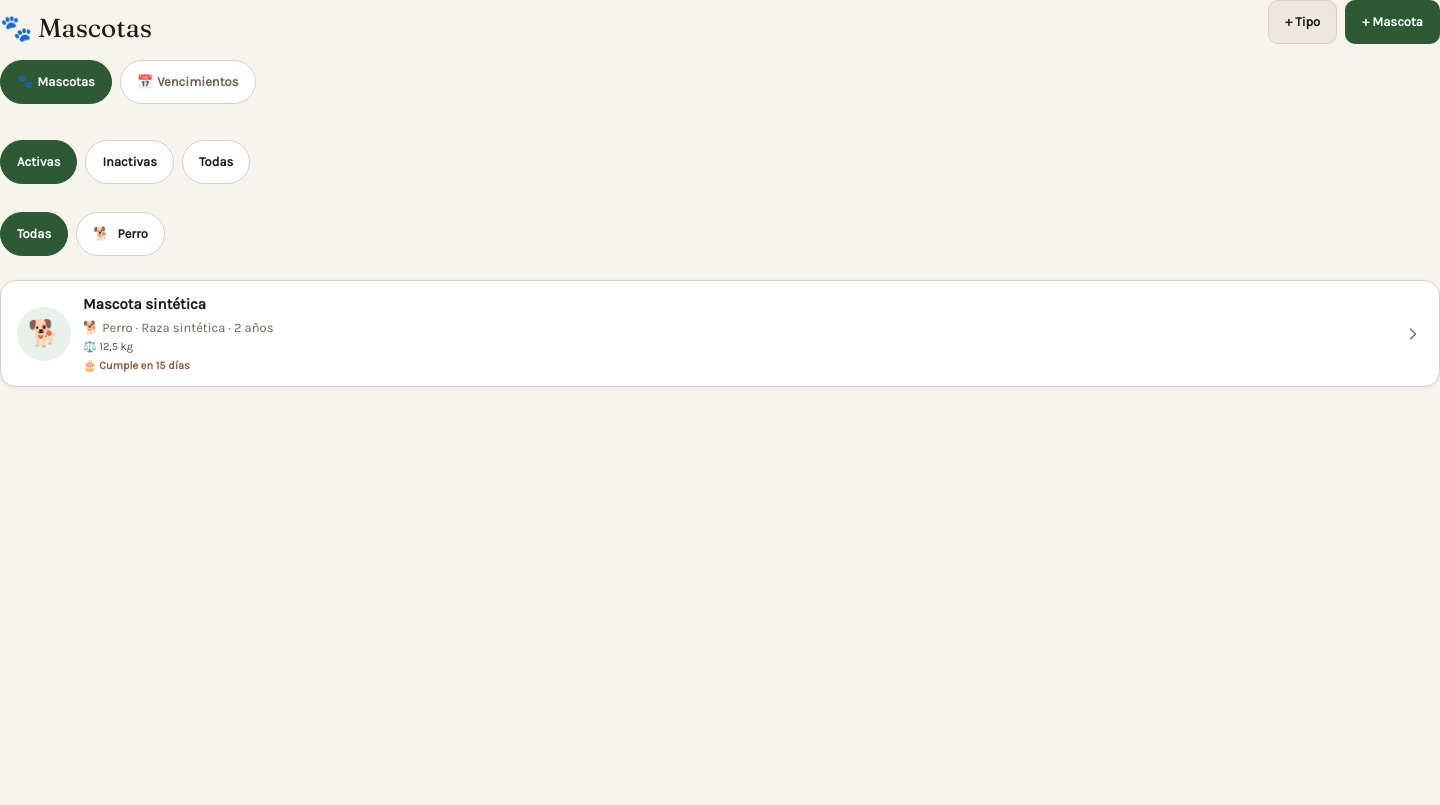
Test: 🐾 Mascotas — listado › ADMIN: "+ Mascota" crea la ficha y abre su detalle; la foto avisa si falta el almacenamiento
The image size is (1440, 805).
Click the button "+ Mascota": click(1393, 22) [1345,0,1439,44]
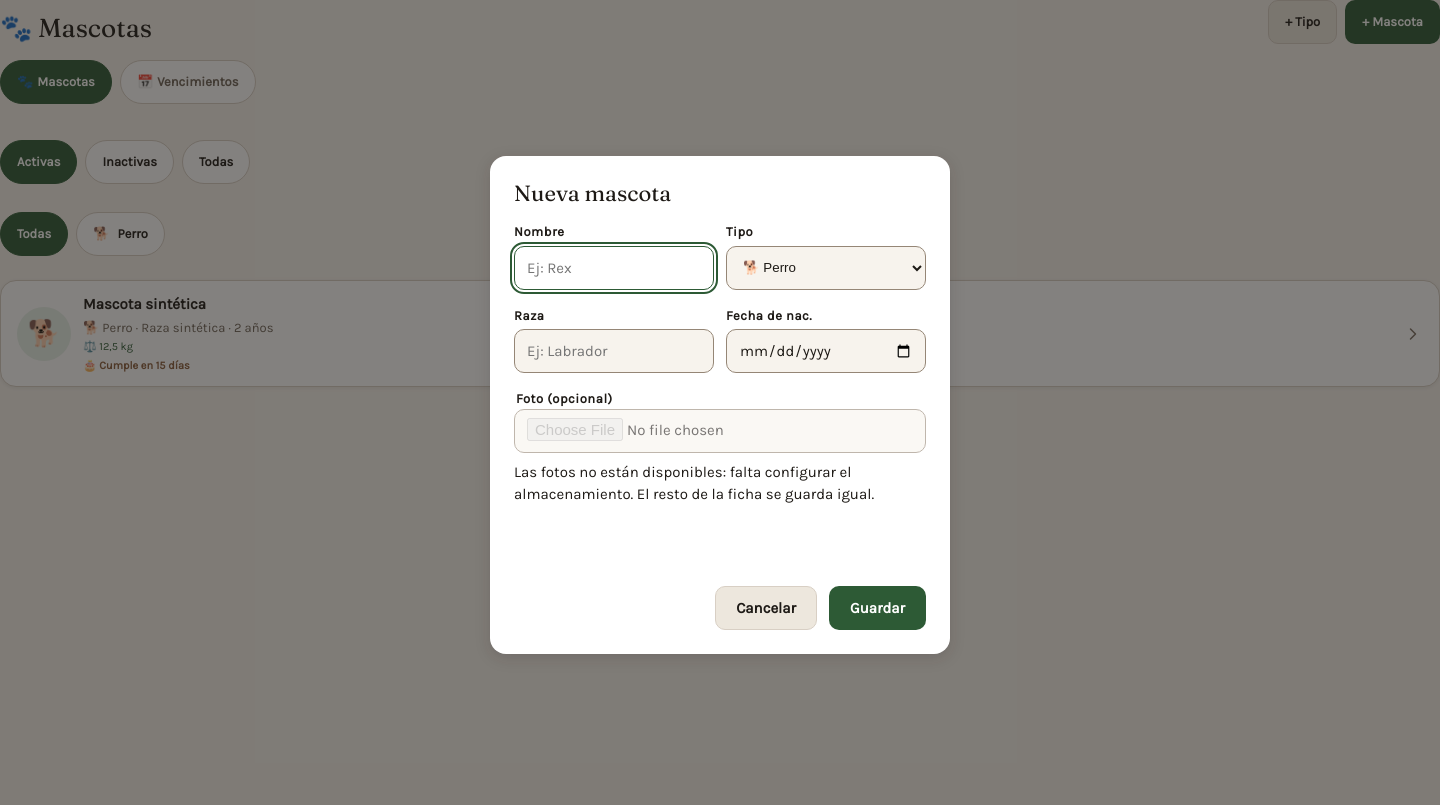
Check: the text "falta configurar el almacenamiento" is shown, box [514,463,874,503]
Check: the file field named "Elegir foto" is disabled, box [514,409,926,453]
Click the button "Guardar": click(878, 608) [829,586,926,630]
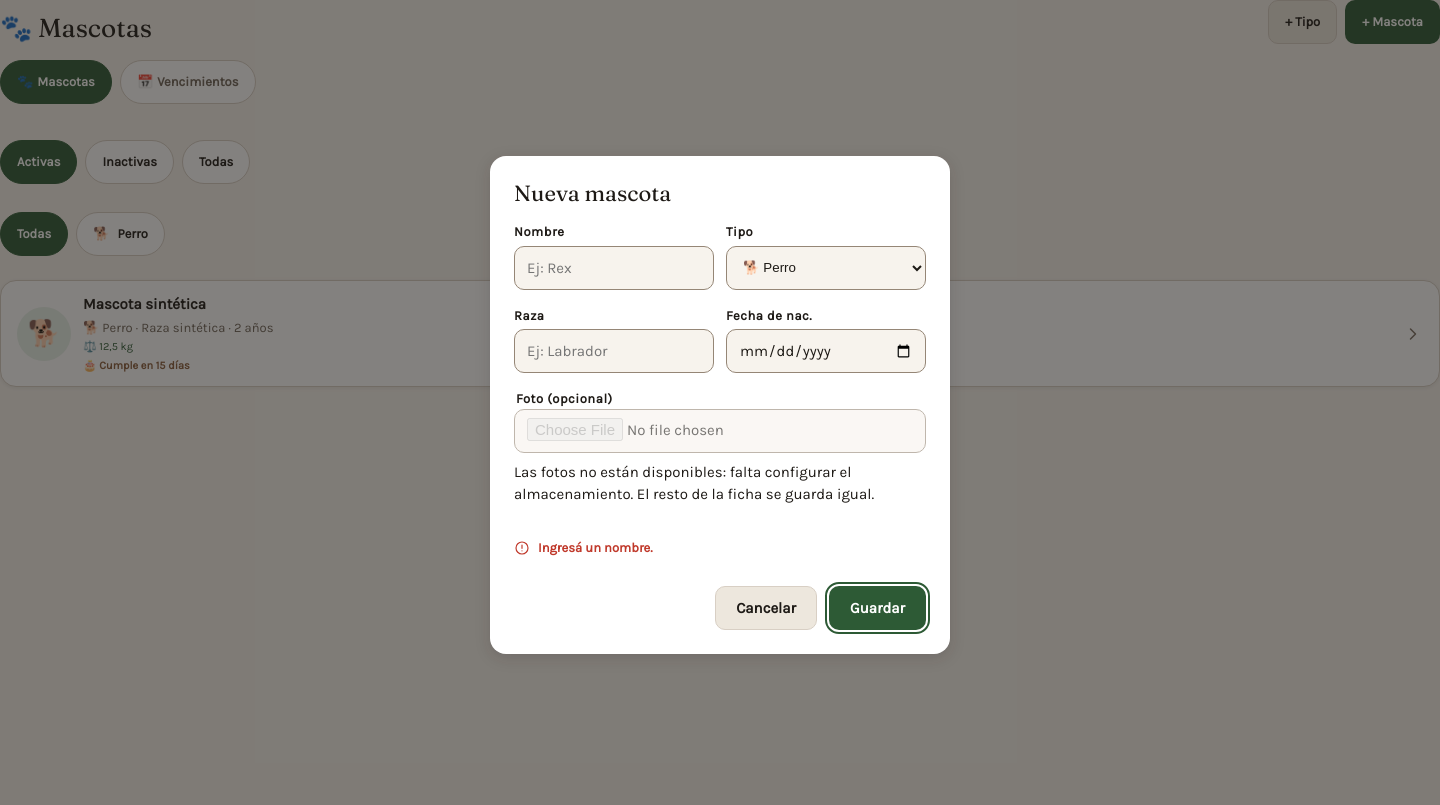
Check: the message reads "Ingresá un nombre.", box [538,540,653,555]
In the field labelled "Nombre": (614, 268) [514,246,714,290], type "  Nueva   sintética "
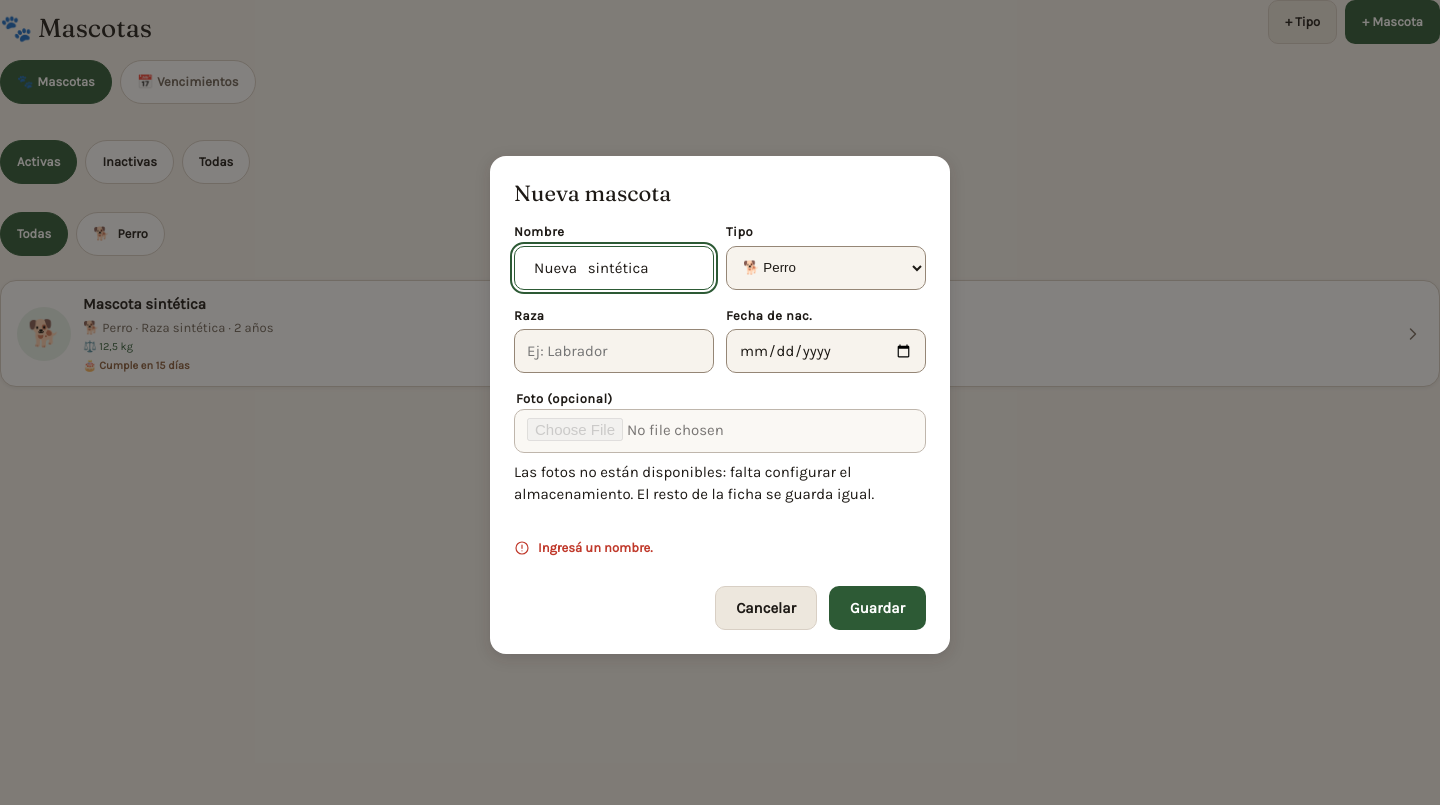
Select "🐈 Gato" in the dropdown labelled "Tipo": (826, 268) [726,246,926,290]
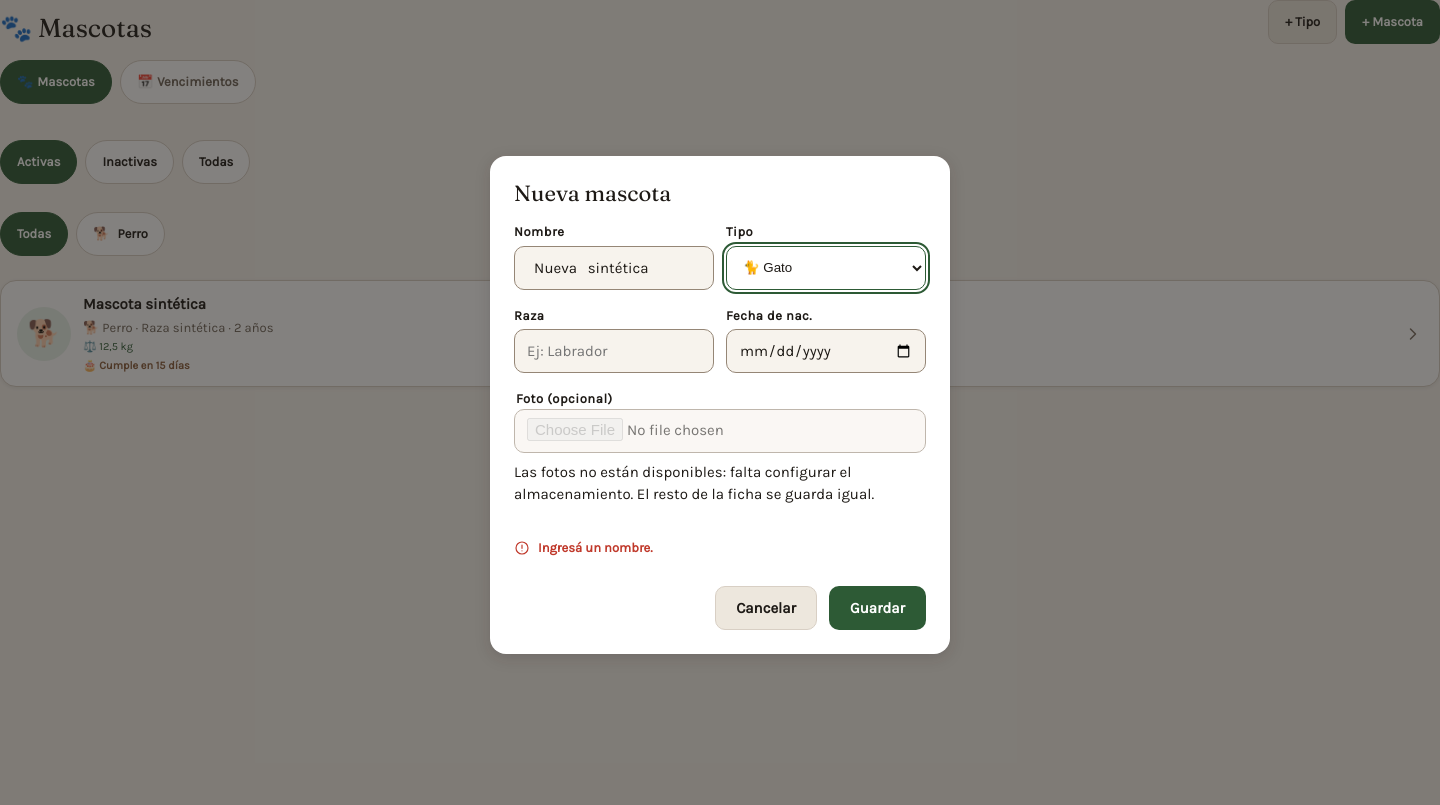
Click the button "Guardar": click(878, 608) [829,586,926,630]
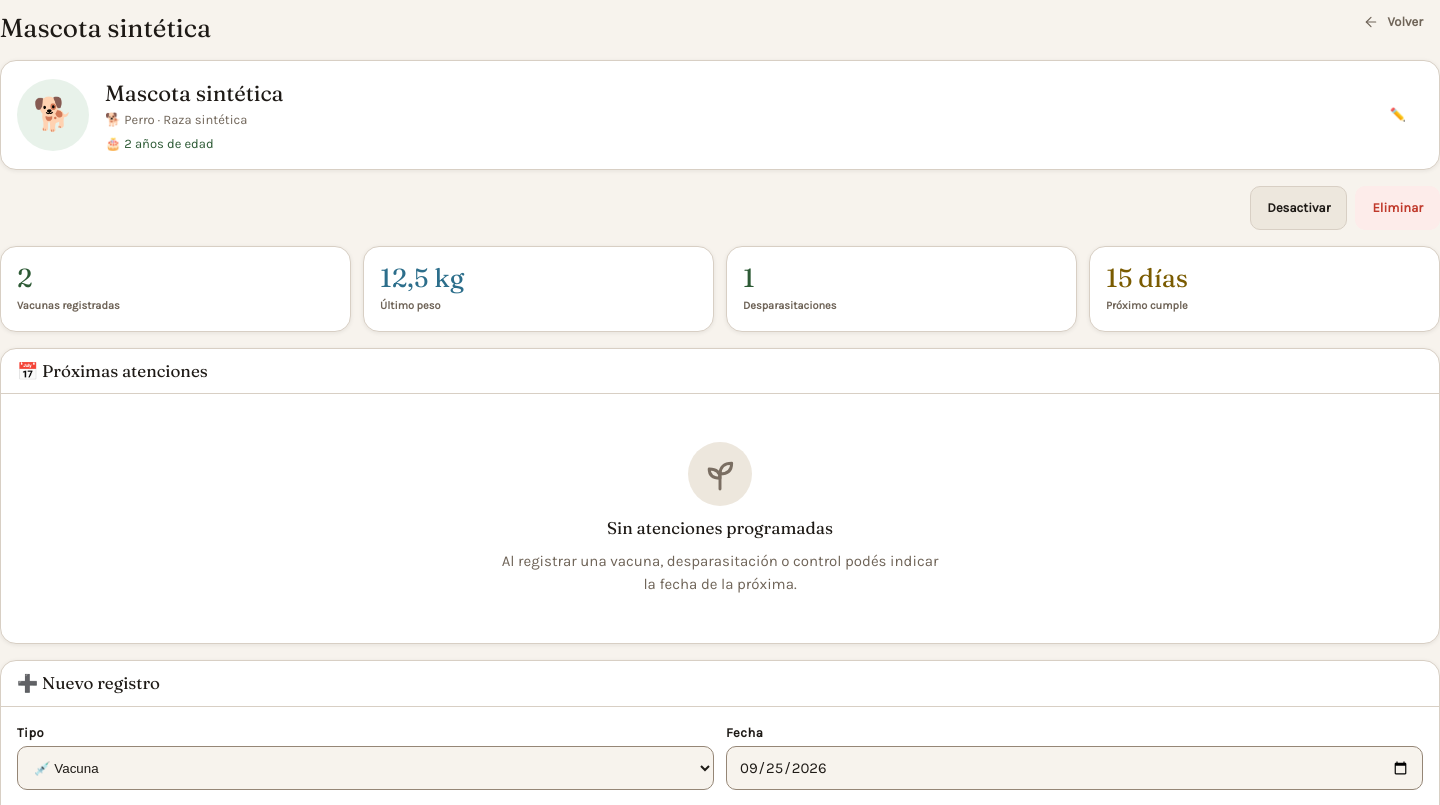
Check: the heading "Mascota sintética" is shown, box [0,13,211,44]
